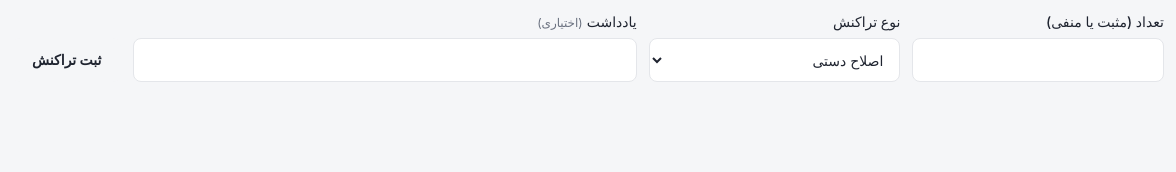
Test: InventoryAdjustForm › submits a signed quantity (Persian digits accepted) and refreshes
Type "-۳" into the field labelled "تعداد (مثبت یا منفی)" at (1038, 60), box [912, 38, 1164, 82]
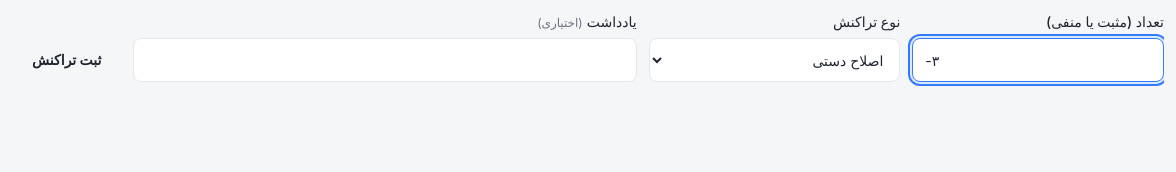
Select "مرجوعی" in the dropdown labelled "نوع تراکنش" at (774, 60), box [649, 38, 900, 82]
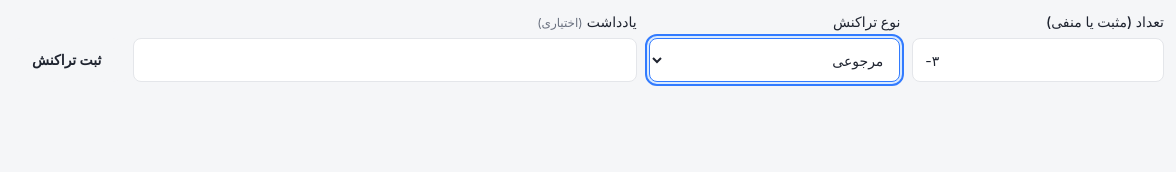
Type "شکسته" into the field labelled "یادداشت" at (385, 60), box [133, 38, 637, 82]
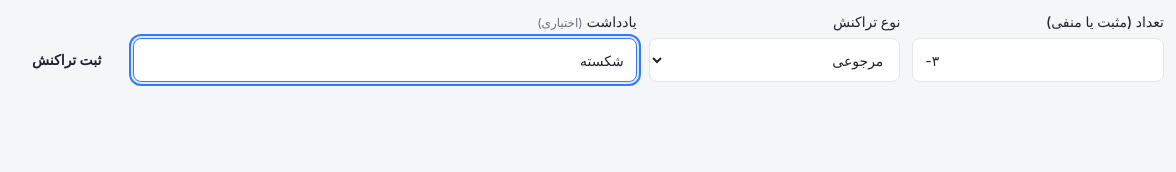
Click the button "ثبت تراکنش" at (67, 60), box [12, 38, 121, 82]
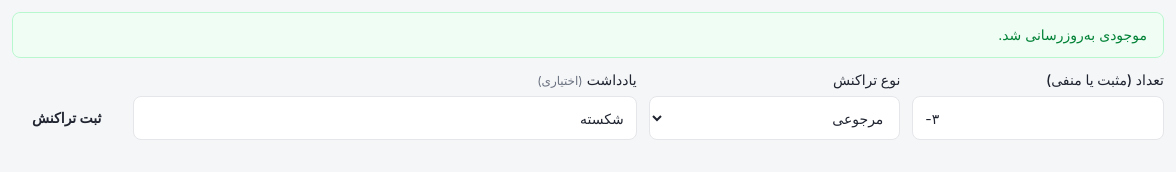
Result: the text "موجودی به‌روزرسانی شد." is shown at [12, 12, 1164, 58]
